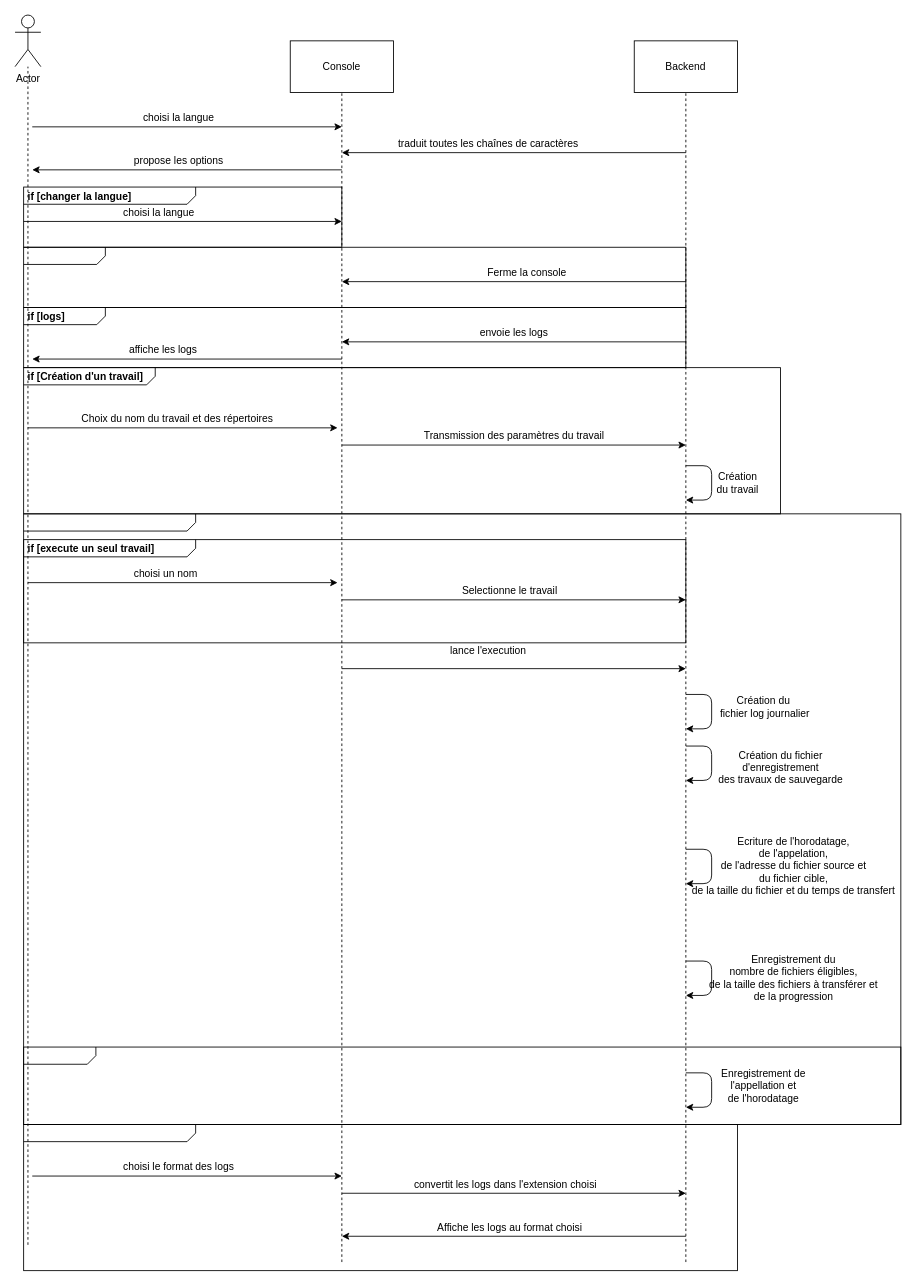
Some shapes in this 916 by 1286 pixel diagram are drawn without their labels. Each missing label, with the box of its shape:
if [changer l'extension]: (23, 1124, 737, 1271)
if [quitter]: (23, 246, 686, 307)
if [état actif]: (23, 1046, 901, 1124)
loop[répertoire de dest existe]: (23, 513, 901, 1124)
